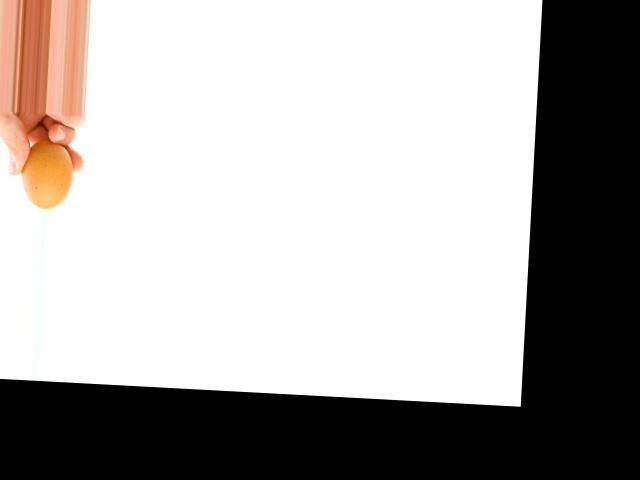egg: (20, 140, 75, 210)
